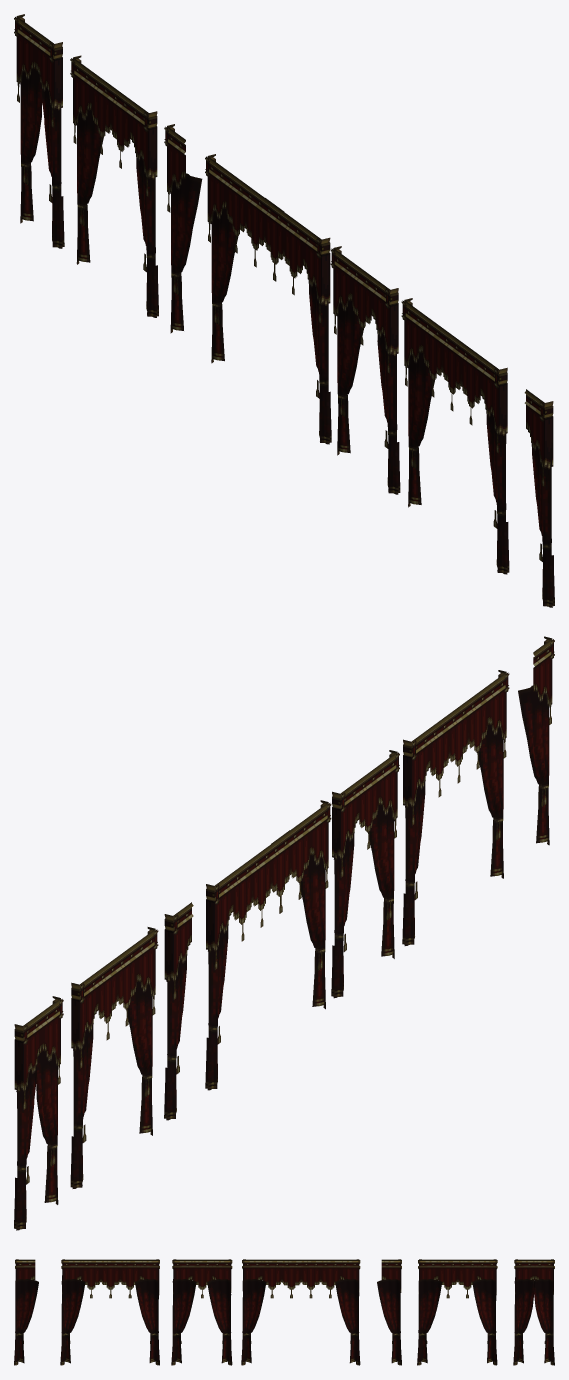
The model's file is EnvMdrMD_Mansion_C_Curtain_200W.FBX.
3 views of the same model, one above another, from view 1: azimuth 30°, elevation 25°; view 2: azimuth 150°, elevation 25°; view 3: azimuth 270°, elevation 25° (orthographic). The views are drawn at different scales.
Visible parts, largest first — view 1: EnvMdrMD_Mansion_C_Curtain_600W, EnvMdrMD_Mansion_C_Curtain_500W, EnvMdrMD_Mansion_C_Curtain_400W, EnvMdrMD_Mansion_C_Curtain_300W, EnvMdrMD_Mansion_C_Curtain_200W, EnvMdrMD_Mansion_C_Curtain_Start, EnvMdrMD_Mansion_C_Curtain_End; view 2: EnvMdrMD_Mansion_C_Curtain_600W, EnvMdrMD_Mansion_C_Curtain_500W, EnvMdrMD_Mansion_C_Curtain_400W, EnvMdrMD_Mansion_C_Curtain_300W, EnvMdrMD_Mansion_C_Curtain_200W, EnvMdrMD_Mansion_C_Curtain_End, EnvMdrMD_Mansion_C_Curtain_Start; view 3: EnvMdrMD_Mansion_C_Curtain_600W, EnvMdrMD_Mansion_C_Curtain_500W, EnvMdrMD_Mansion_C_Curtain_400W, EnvMdrMD_Mansion_C_Curtain_300W, EnvMdrMD_Mansion_C_Curtain_200W, EnvMdrMD_Mansion_C_Curtain_Start, EnvMdrMD_Mansion_C_Curtain_End, EnvMdrMD_Mansion_C_Curtain_Loop.
Part boxes in pixels (x1,y1,x2,y2): EnvMdrMD_Mansion_C_Curtain_600W: [205, 154, 331, 444]; EnvMdrMD_Mansion_C_Curtain_500W: [401, 298, 509, 574]; EnvMdrMD_Mansion_C_Curtain_400W: [70, 55, 158, 317]; EnvMdrMD_Mansion_C_Curtain_300W: [330, 246, 400, 494]; EnvMdrMD_Mansion_C_Curtain_200W: [14, 14, 64, 248]; EnvMdrMD_Mansion_C_Curtain_Start: [164, 124, 202, 333]; EnvMdrMD_Mansion_C_Curtain_End: [524, 389, 554, 607]; EnvMdrMD_Mansion_C_Curtain_600W: [205, 800, 331, 1090]; EnvMdrMD_Mansion_C_Curtain_500W: [402, 670, 509, 945]; EnvMdrMD_Mansion_C_Curtain_400W: [70, 927, 158, 1188]; EnvMdrMD_Mansion_C_Curtain_300W: [331, 750, 399, 998]; EnvMdrMD_Mansion_C_Curtain_200W: [14, 996, 63, 1230]; EnvMdrMD_Mansion_C_Curtain_End: [518, 636, 554, 845]; EnvMdrMD_Mansion_C_Curtain_Start: [164, 902, 193, 1120]; EnvMdrMD_Mansion_C_Curtain_600W: [241, 1259, 360, 1365]; EnvMdrMD_Mansion_C_Curtain_500W: [60, 1259, 159, 1365]; EnvMdrMD_Mansion_C_Curtain_400W: [417, 1259, 497, 1365]; EnvMdrMD_Mansion_C_Curtain_300W: [171, 1259, 232, 1365]; EnvMdrMD_Mansion_C_Curtain_200W: [513, 1259, 554, 1365]; EnvMdrMD_Mansion_C_Curtain_Start: [377, 1259, 401, 1365]; EnvMdrMD_Mansion_C_Curtain_End: [14, 1259, 38, 1365]; EnvMdrMD_Mansion_C_Curtain_Loop: [282, 1259, 301, 1298].
Size of the model in its own units: 40.59 by 595 by 2790.
1 material, 1 textured.
